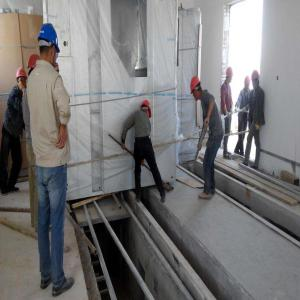blue: (39, 21, 62, 69)
red: (190, 75, 203, 103), (16, 67, 29, 94), (140, 97, 154, 121), (251, 69, 261, 90), (226, 66, 235, 85), (244, 75, 251, 92)
